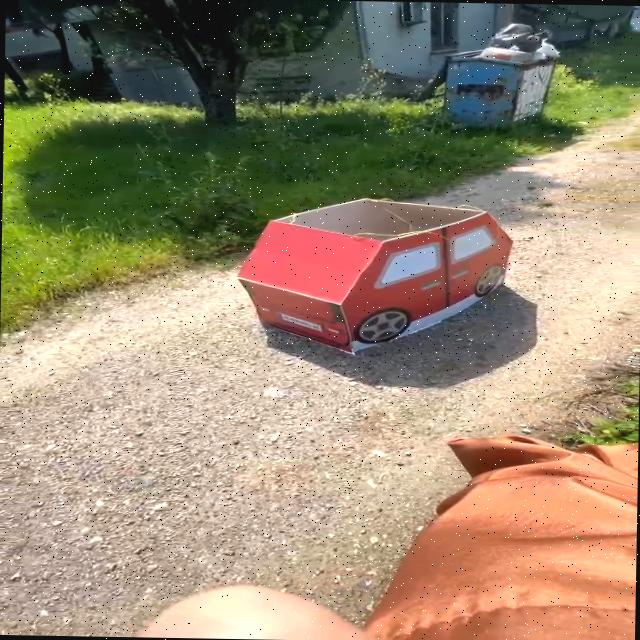red_car: (210, 177, 546, 371)
